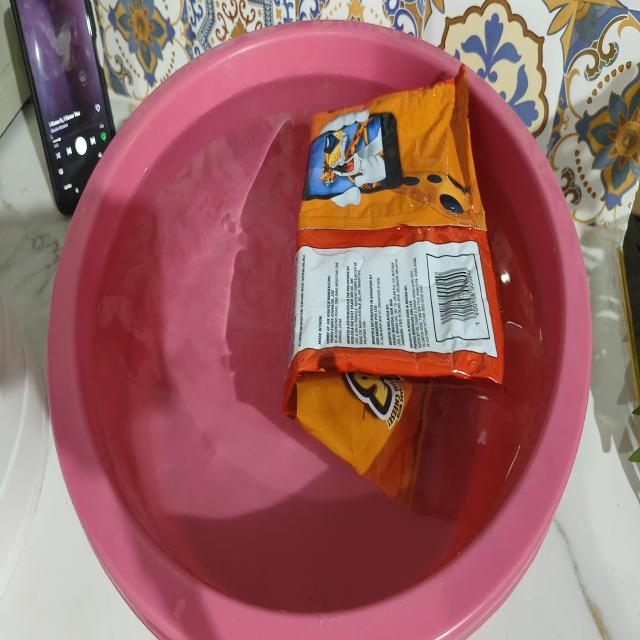Plastic Wrapper: (283, 69, 504, 508)
